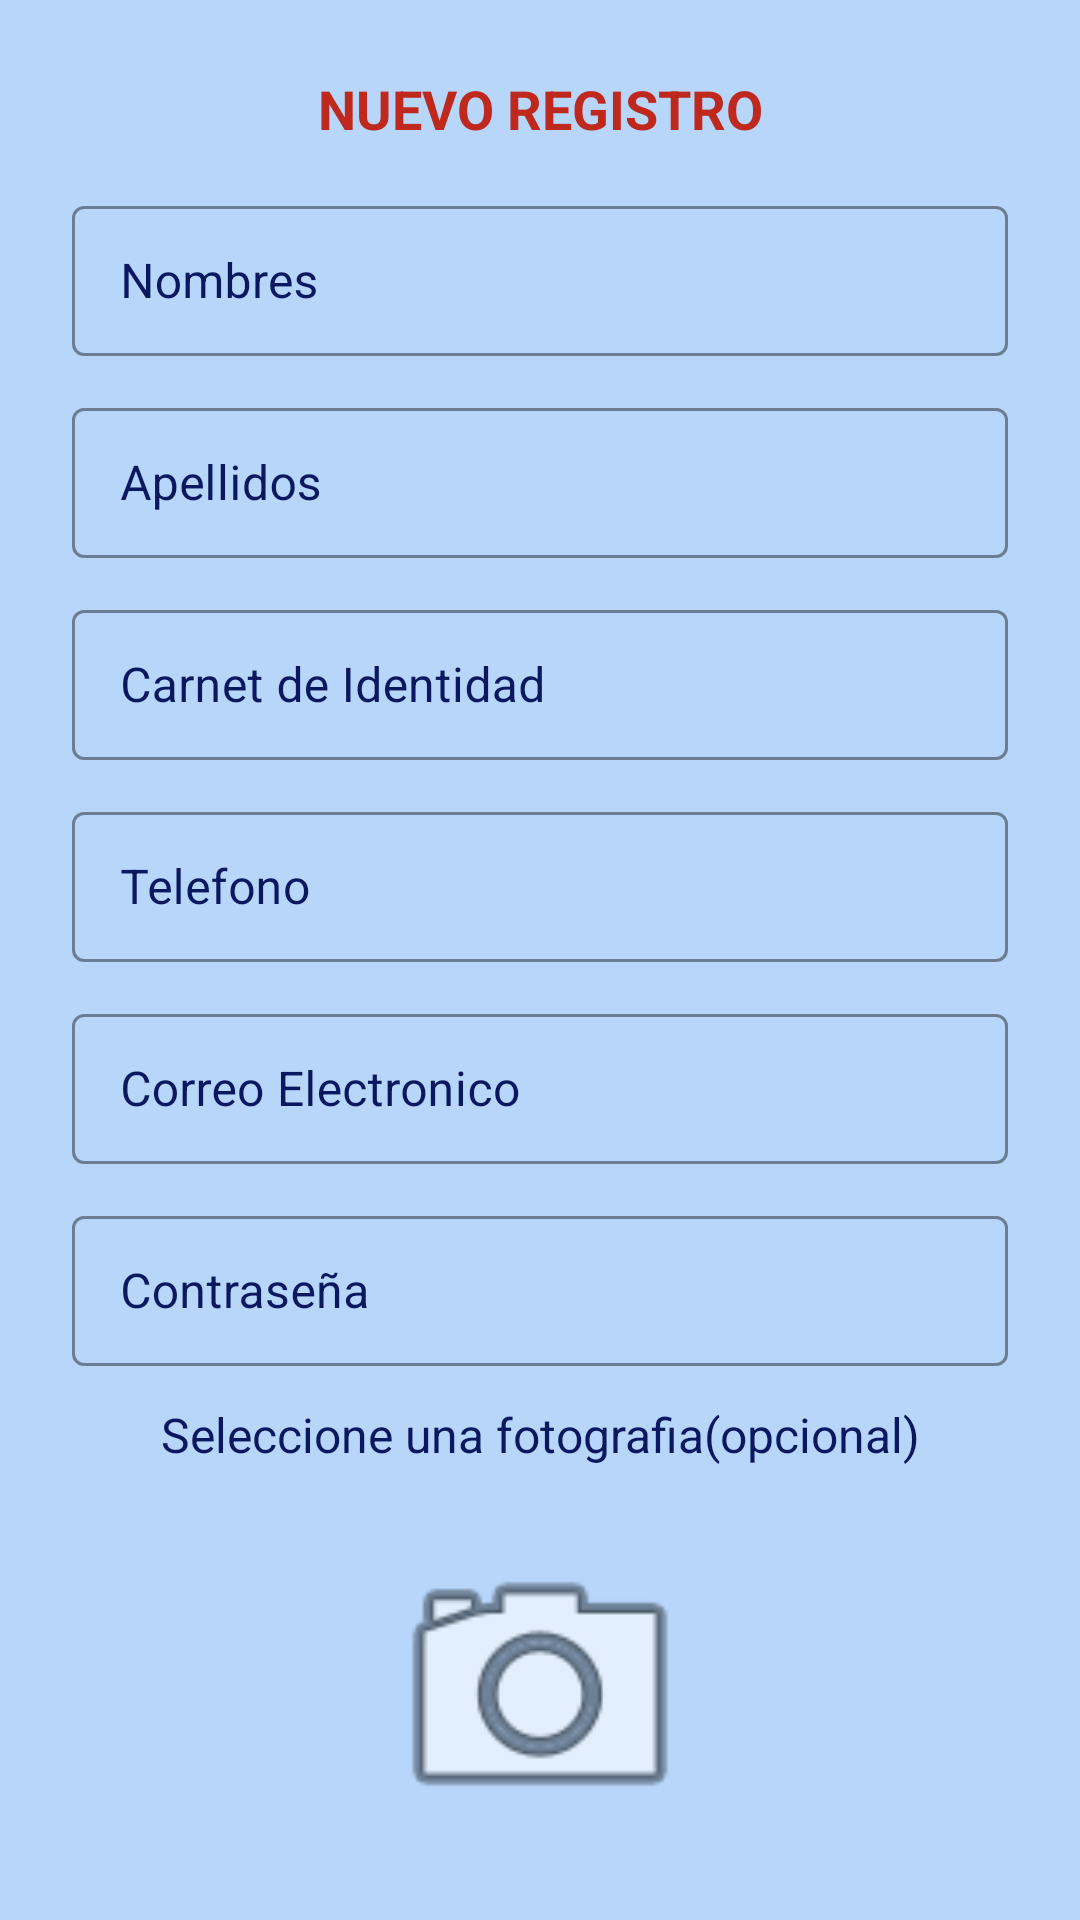

Icons on this 1080 x 1920 Android screen, each with the point to tap as [x,y]:
Imagen del usuario: [540,1684]
